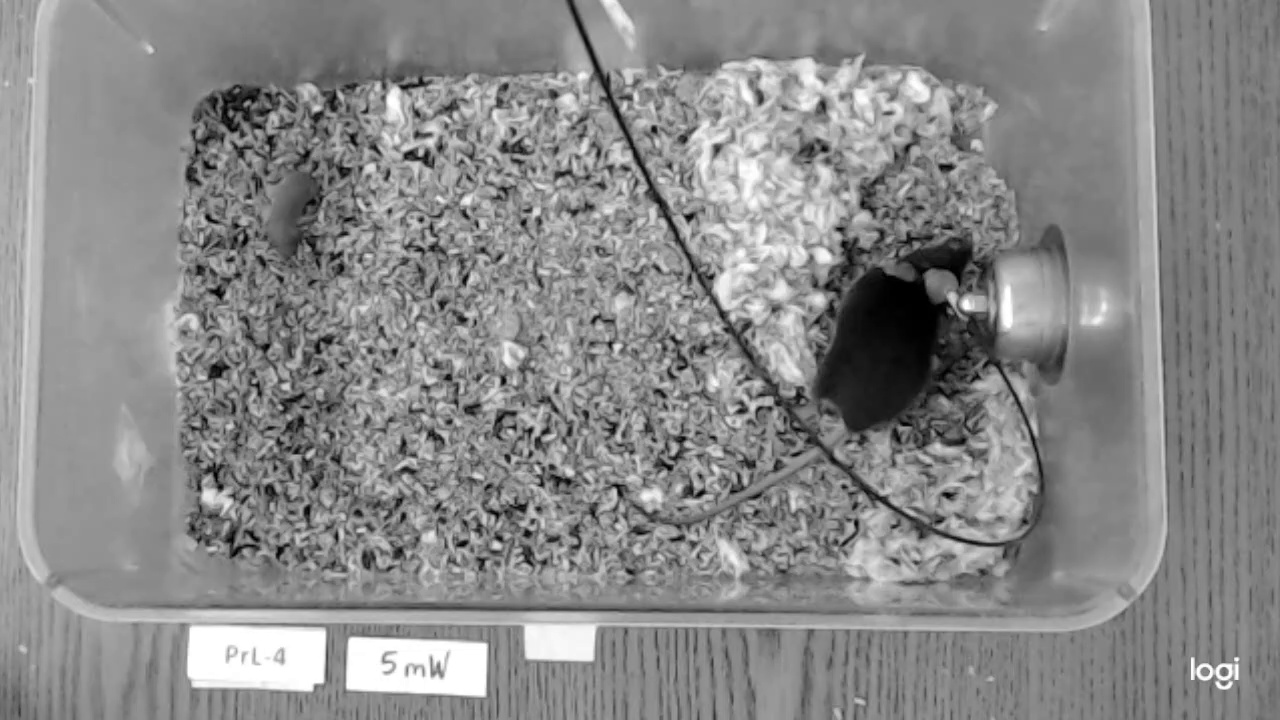parent-mice: (811, 235, 969, 431)
